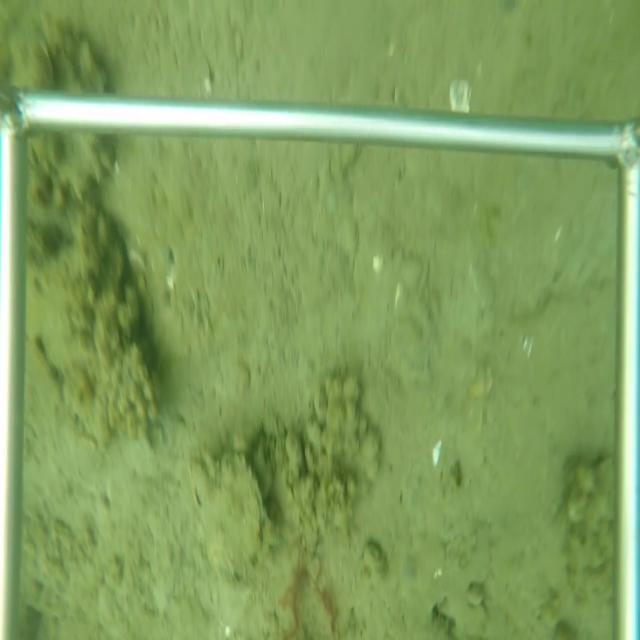Oyster-Indeterminate: (182, 442, 278, 585)
